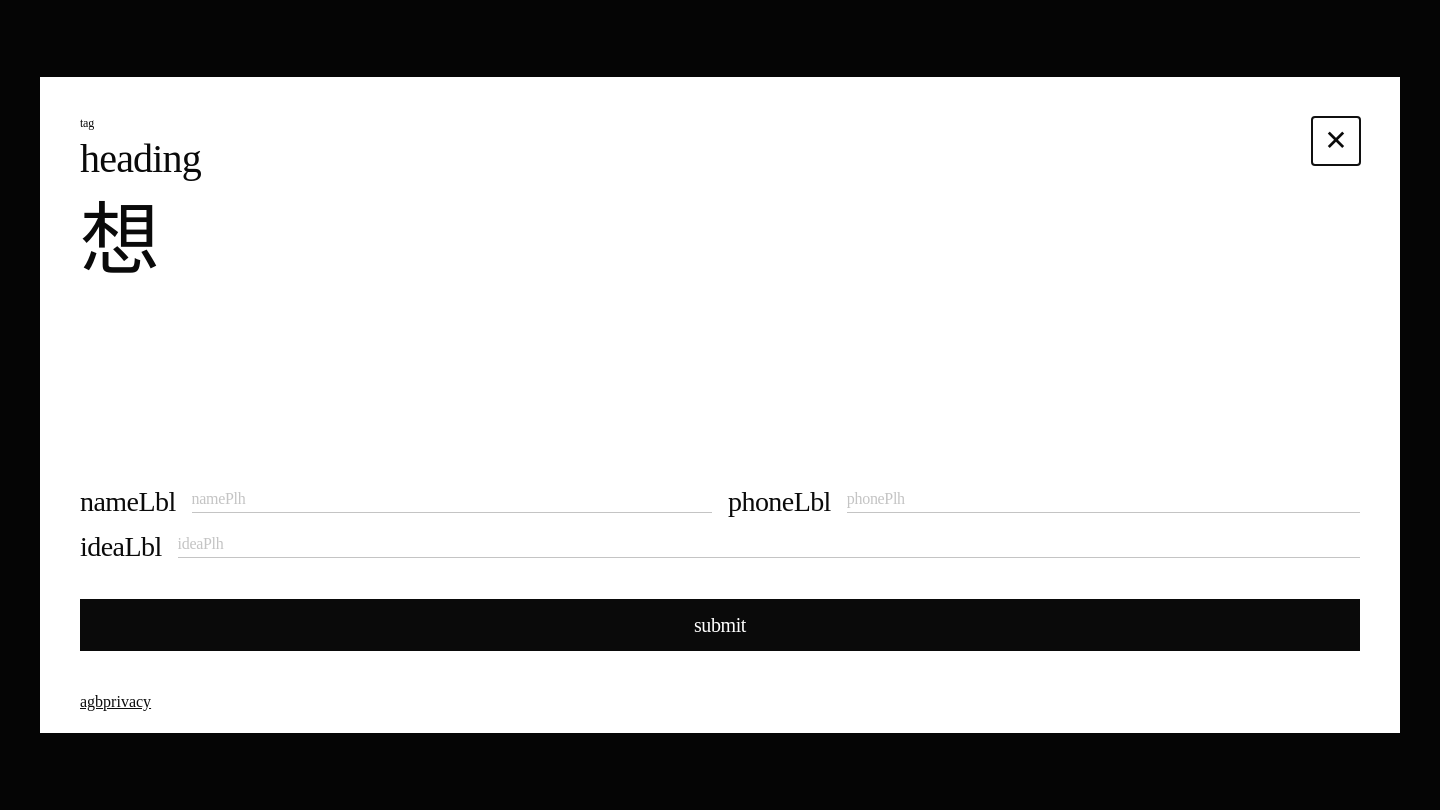
it: FormPopup › submit button is disabled while submitting
In the field named "name": (452, 499) x1=192 y1=490 x2=712 y2=508, type "Anna"
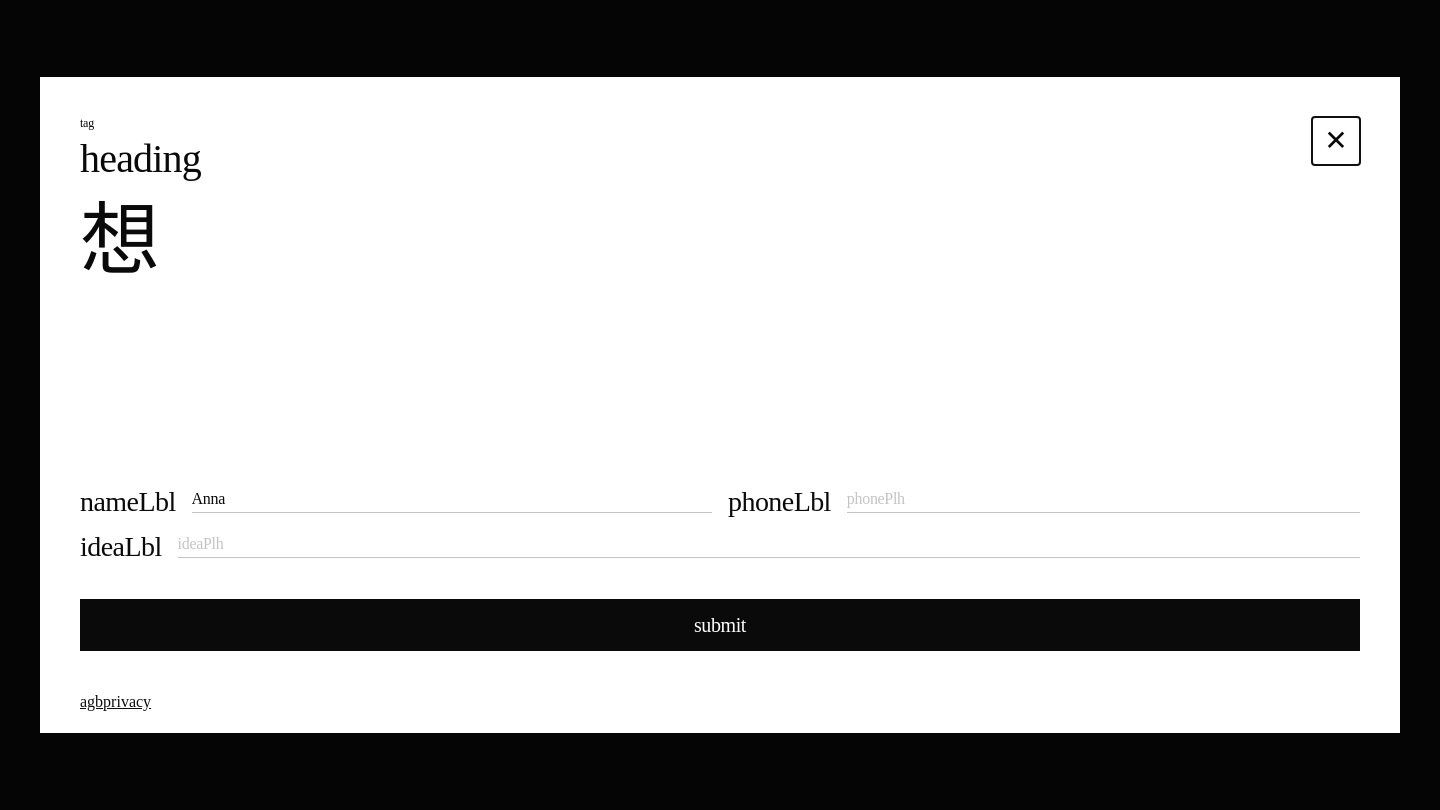
In the field named "phone": (1103, 499) x1=847 y1=490 x2=1360 y2=508, type "+49123456789"
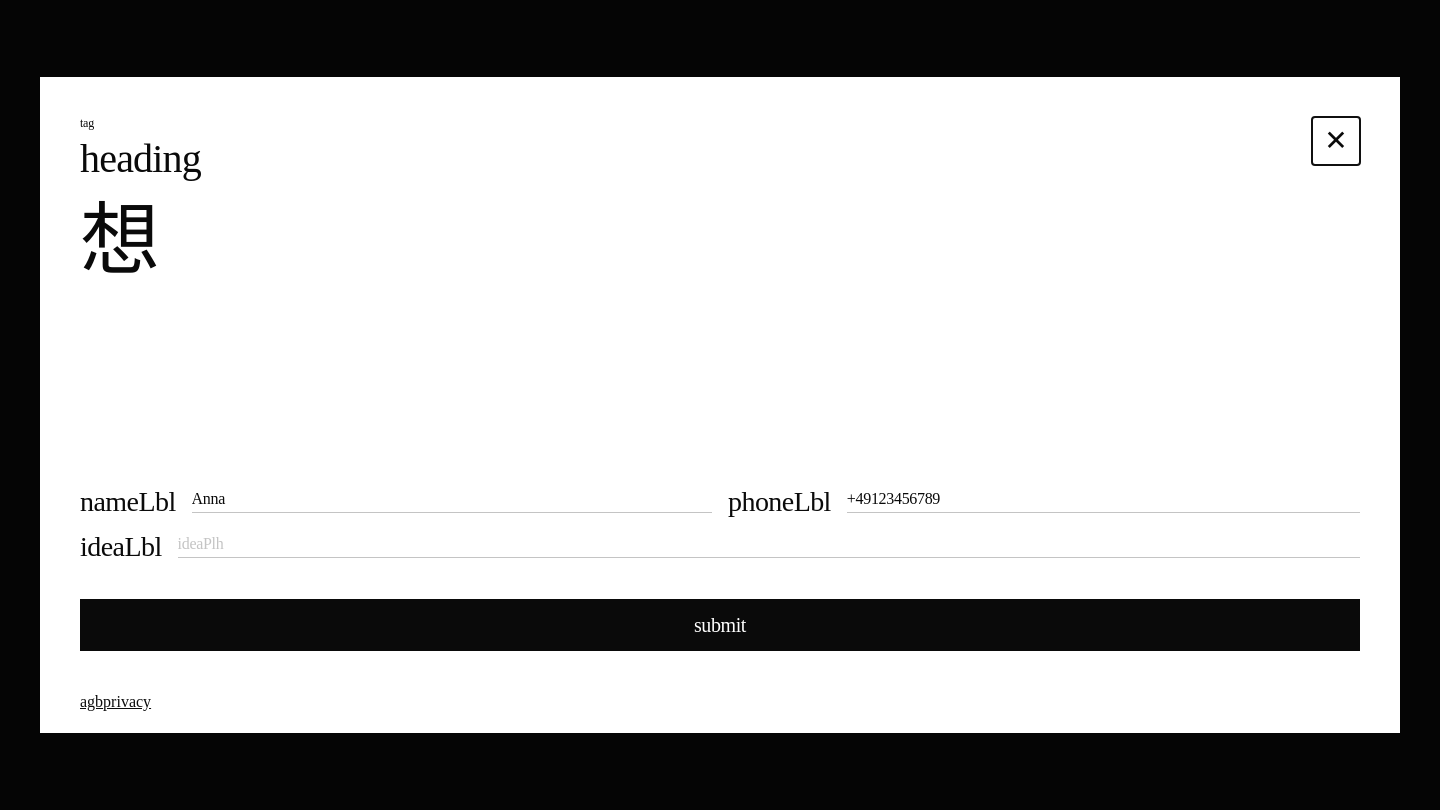
Submit the form, box x1=60 y1=469 x2=1380 y2=713
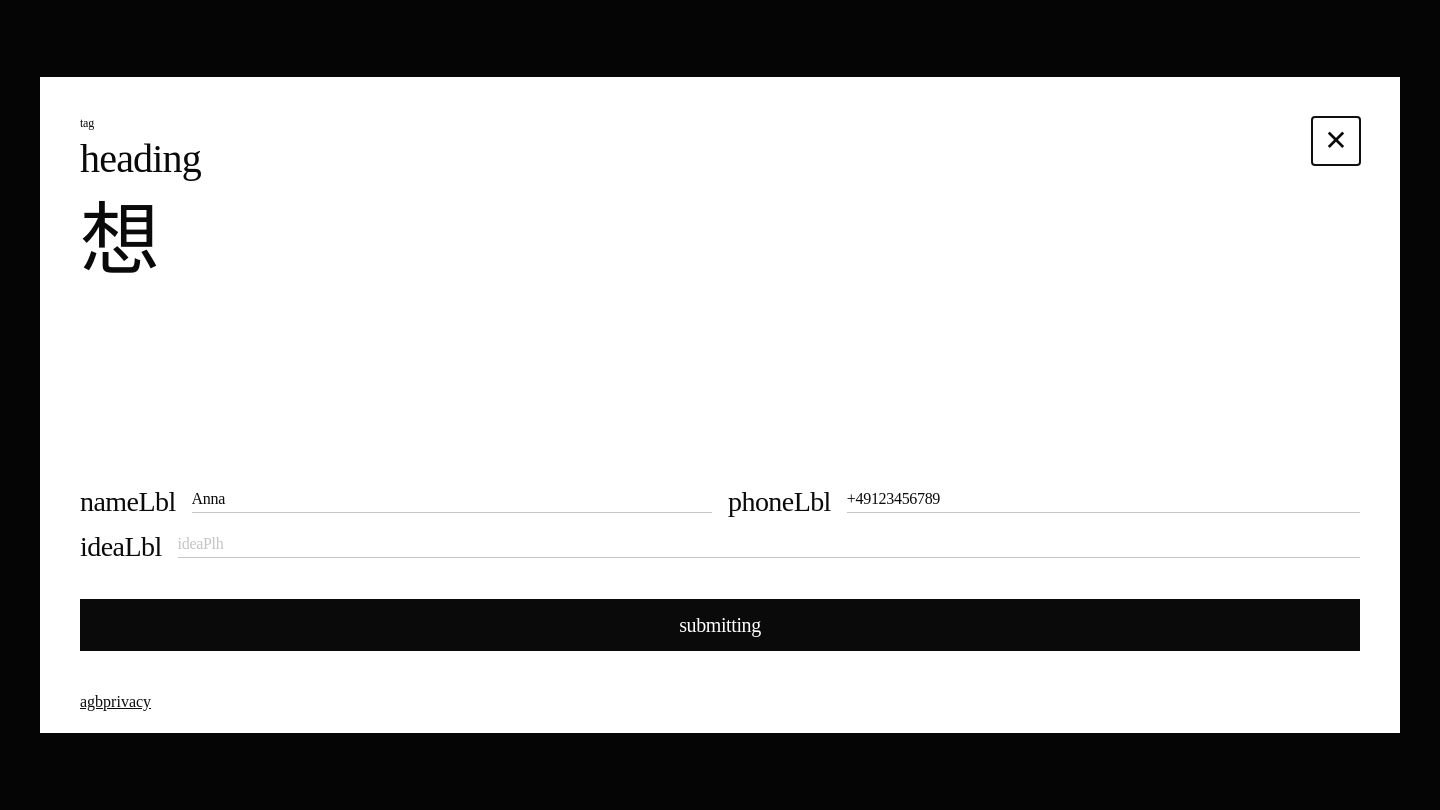
Now the button "submitting" is disabled, box x1=80 y1=599 x2=1360 y2=651
